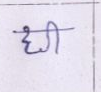i_matra: (48, 21, 62, 53)
